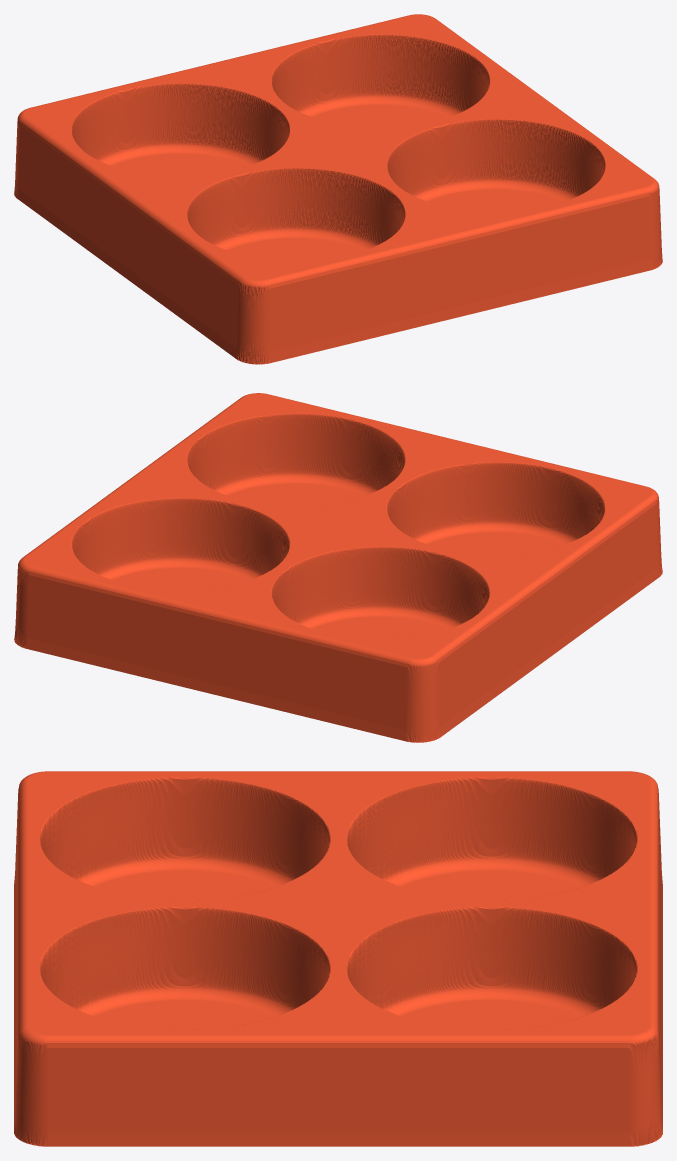
File: mold.glb
3 views of the same model, one above another, from view 1: azimuth 30°, elevation 25°; view 2: azimuth 150°, elevation 25°; view 3: azimuth 270°, elevation 25° (orthographic). The views are drawn at different scales.
Parts seen in each view (by area): view 1: geometry_0; view 2: geometry_0; view 3: geometry_0.
Boxes of the visible parts, x1,y1,x2,y2 form: geometry_0: [14, 14, 662, 364]; geometry_0: [14, 393, 662, 742]; geometry_0: [14, 771, 662, 1146].
Bounding box in the file's own units: 0.1721 × 0.031 × 0.1721.
